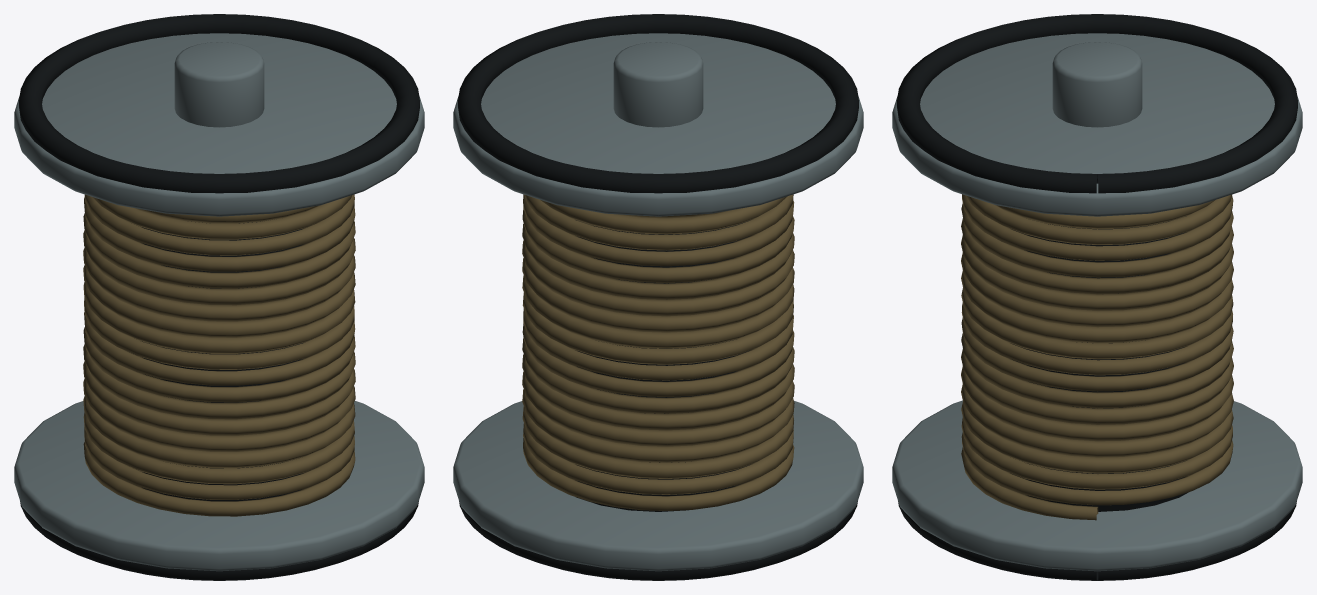
File: SM_WinchDrum.obj
The picture shows the model from 3 angles, left to right: view 1: azimuth 30°, elevation 25°; view 2: azimuth 150°, elevation 25°; view 3: azimuth 270°, elevation 25°; orthographic projection.
Parts seen in each view (by area): view 1: SM_WinchDrum; view 2: SM_WinchDrum; view 3: SM_WinchDrum.
Boxes of the visible parts, left/top/right/bottom form: SM_WinchDrum: left=14, top=14, right=424, bottom=580; SM_WinchDrum: left=453, top=14, right=863, bottom=580; SM_WinchDrum: left=892, top=14, right=1302, bottom=580.
Size of the model in its own units: 128 by 164 by 128.
